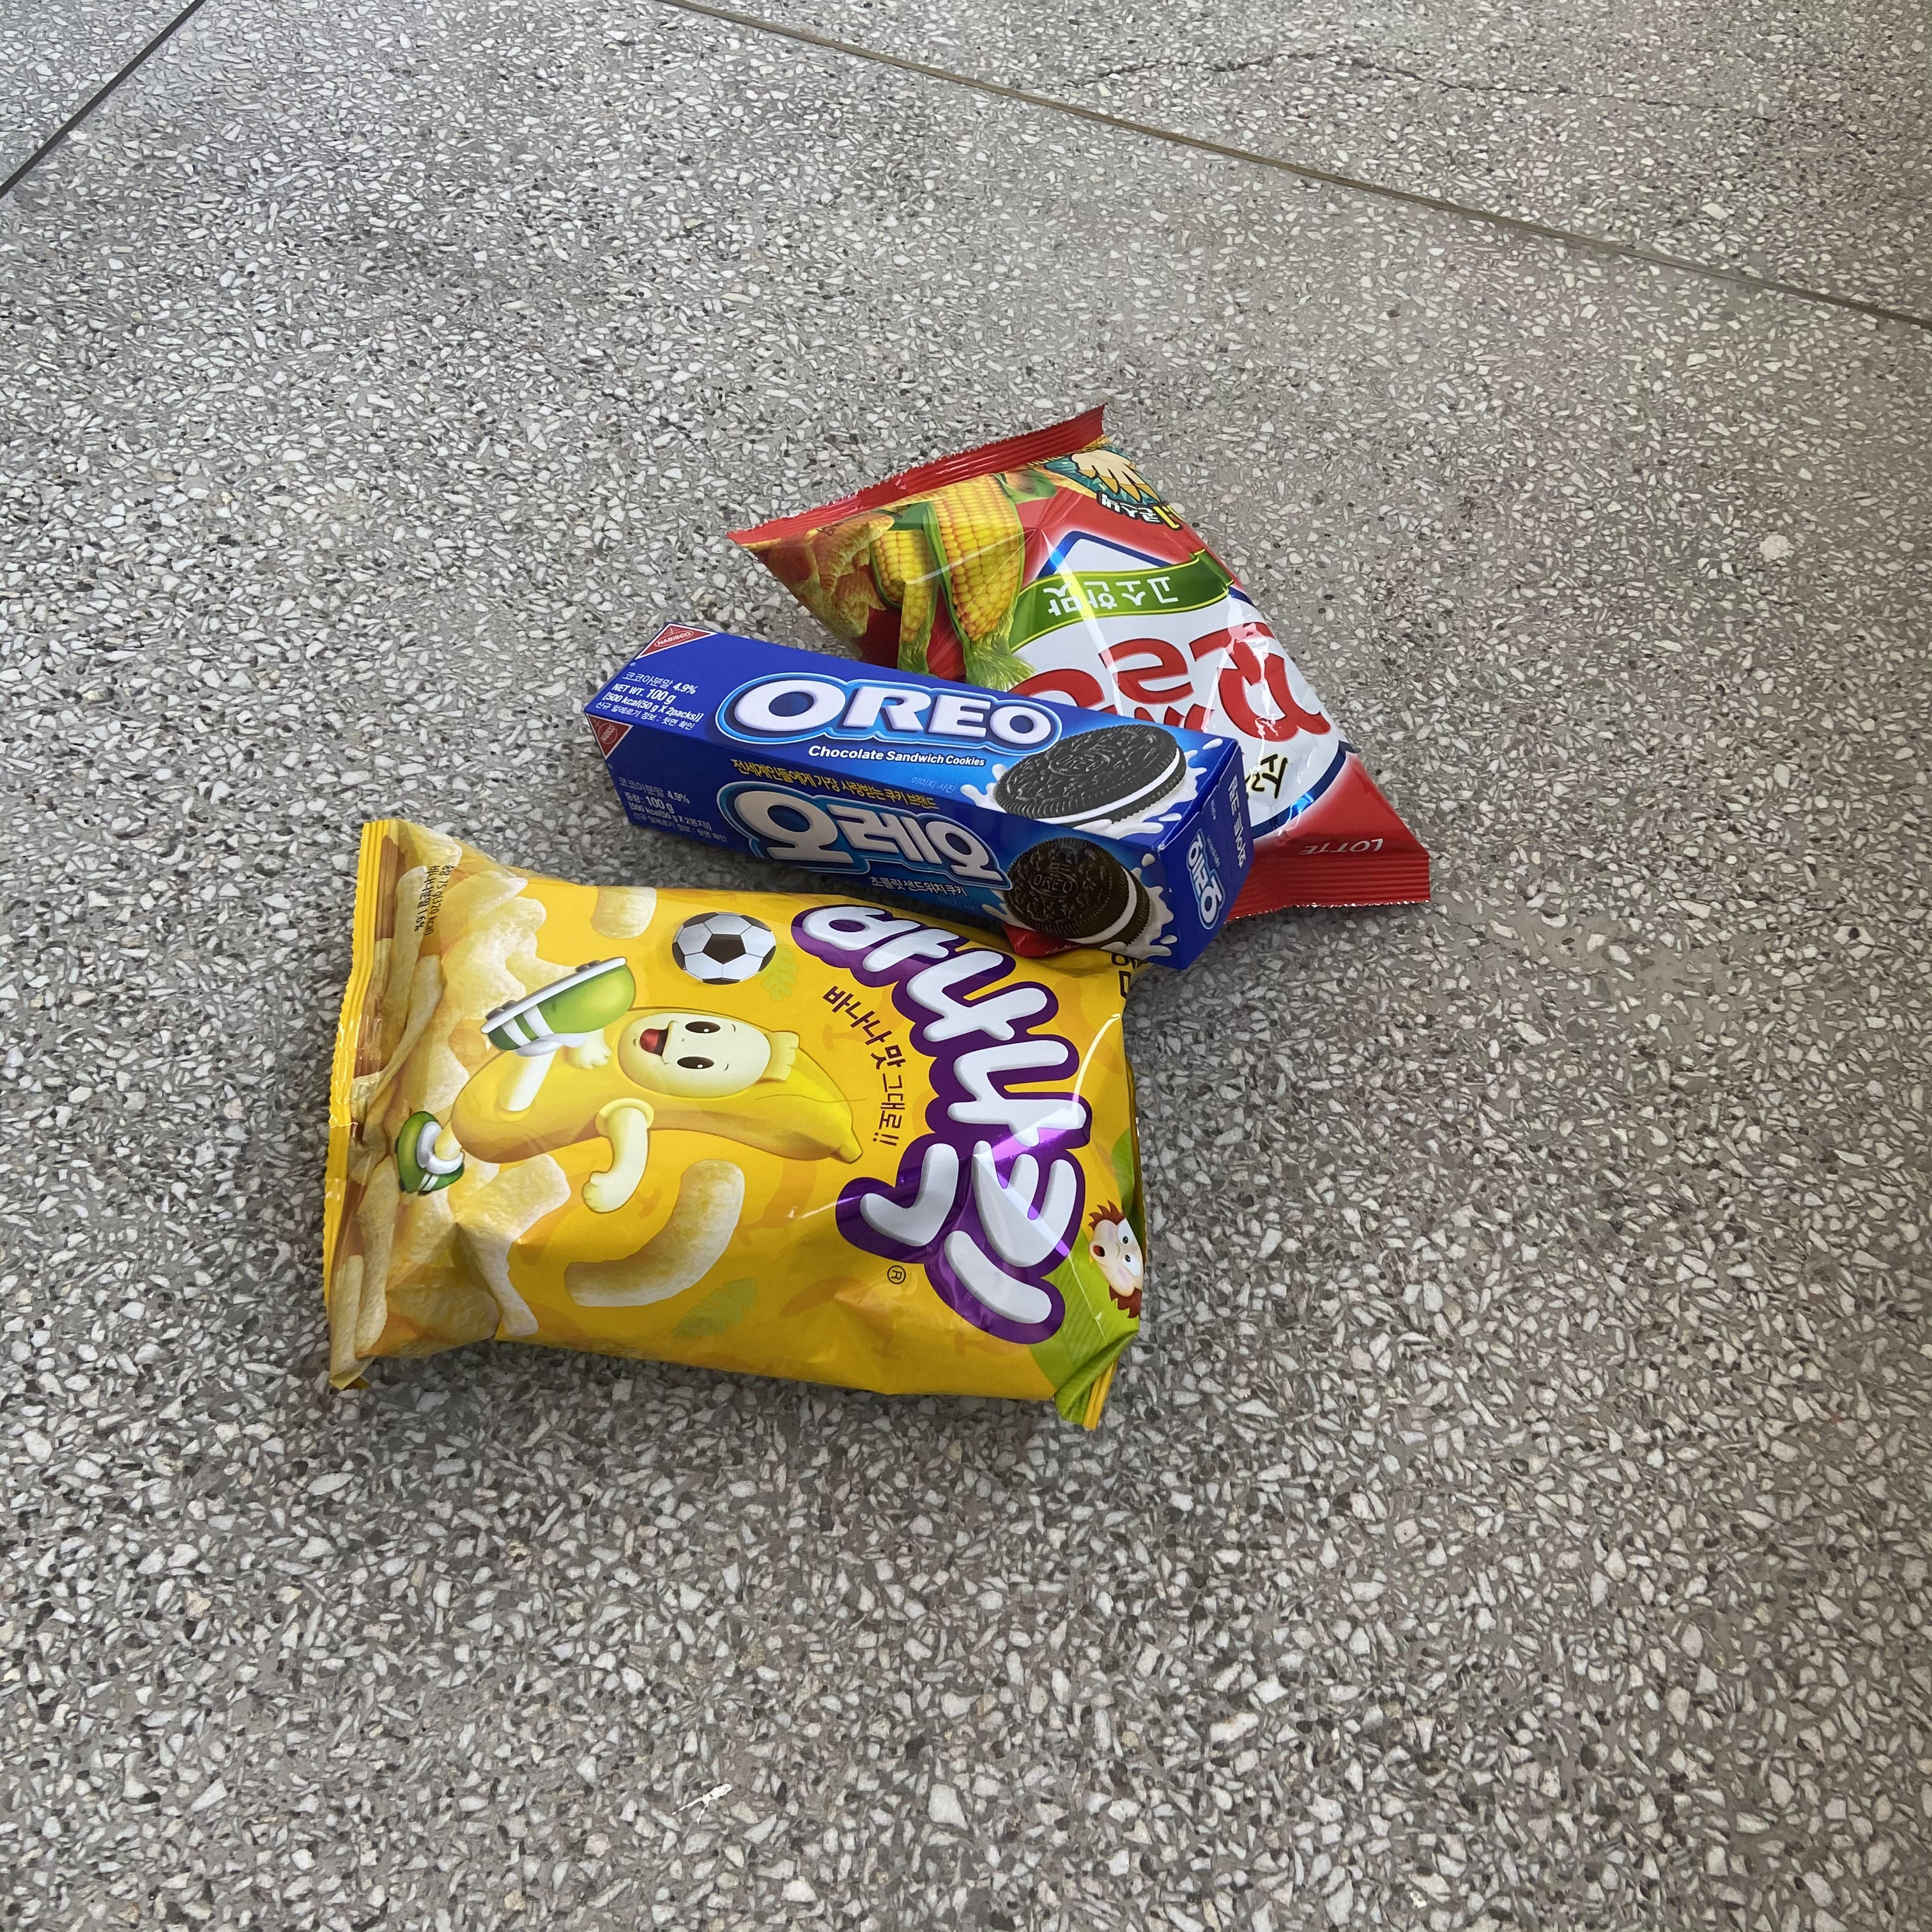banana: (306, 805, 1161, 1467)
ggoggalcon: (711, 396, 1440, 929)
oreo: (573, 614, 1270, 996)
